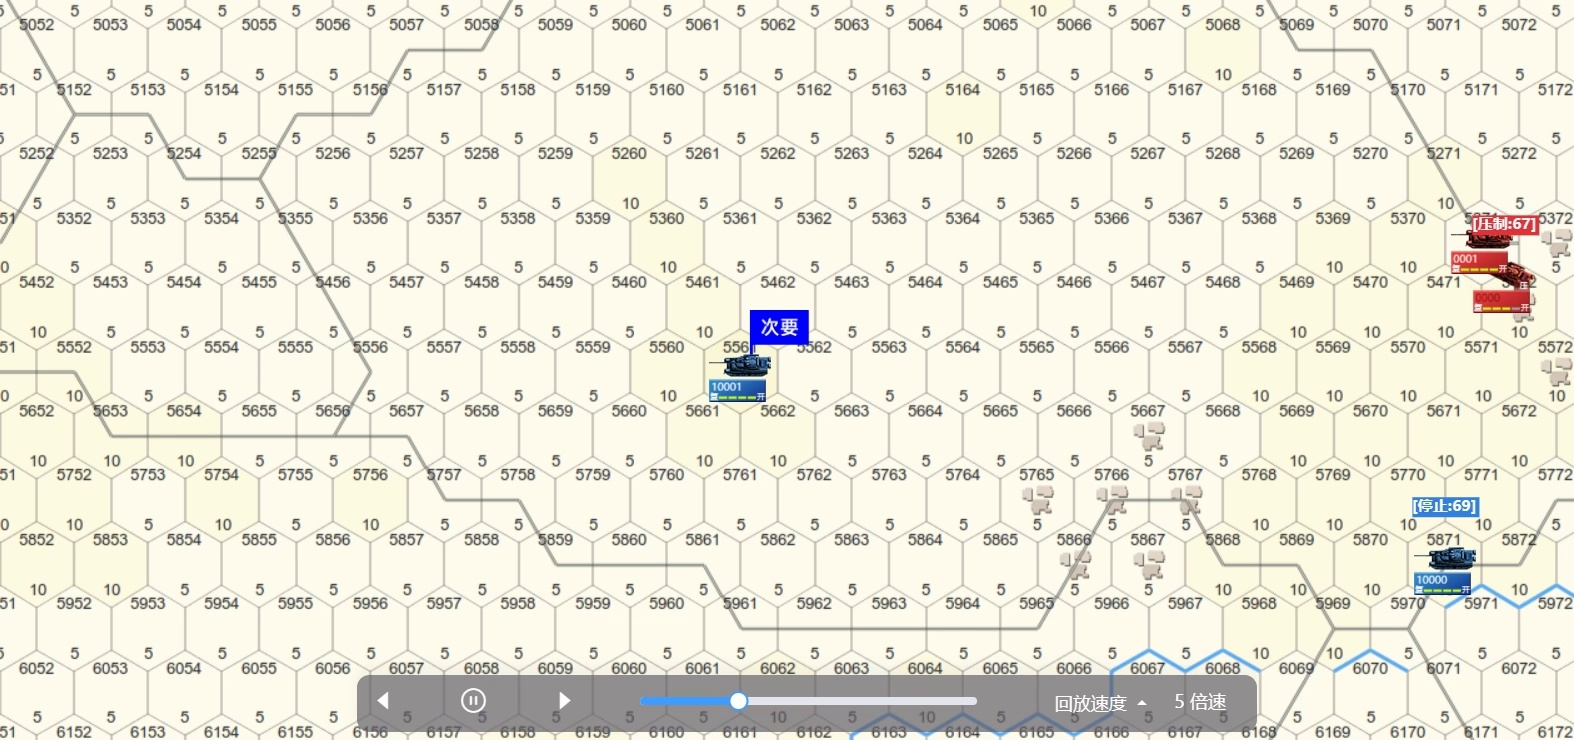blue_tank: (1422, 550, 1483, 595), (717, 356, 772, 401)
red_tank: (1478, 267, 1534, 314), (1462, 225, 1513, 274)
